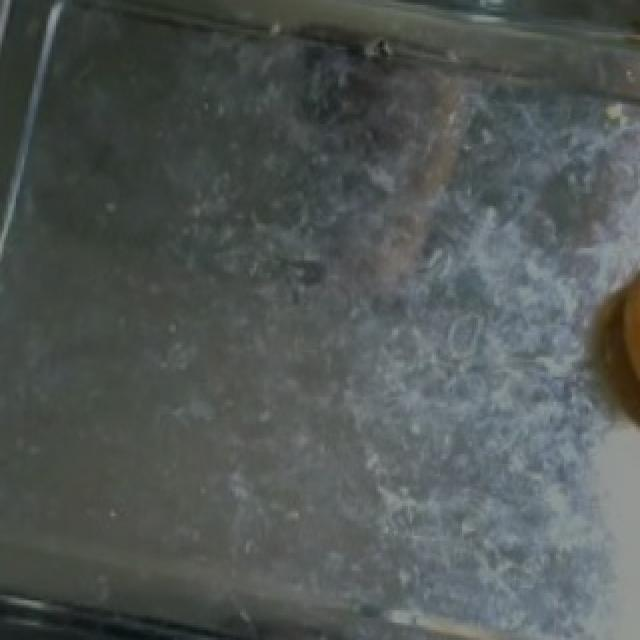Fruit: (584, 238, 640, 466)
